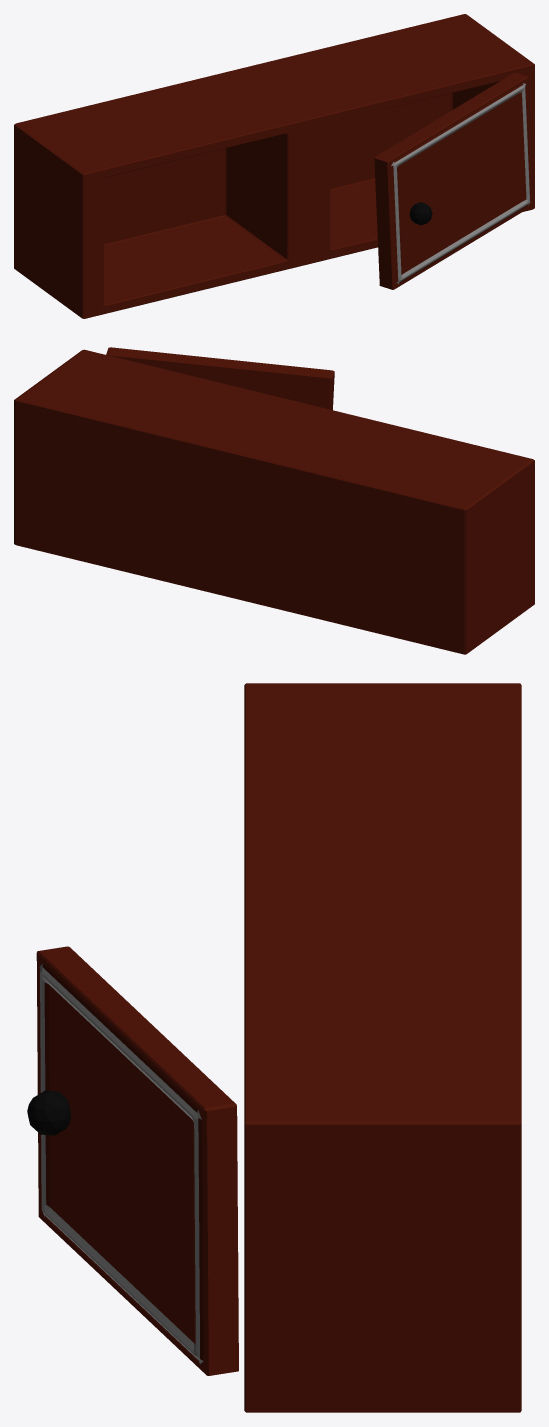
The model's file is EstanteSM.fbx.
3 views of the same model, one above another, from view 1: azimuth 30°, elevation 25°; view 2: azimuth 150°, elevation 25°; view 3: azimuth 270°, elevation 25° (orthographic). The views are drawn at different scales.
Visible parts, largest first — view 1: Wall shelf; view 2: Wall shelf; view 3: Wall shelf.
Part boxes in pixels (x1,y1,x2,y2): Wall shelf: (14,14,534,318); Wall shelf: (14,347,534,654); Wall shelf: (27,683,521,1412).
Bounding box in the file's own units: 495 × 152 × 234.
